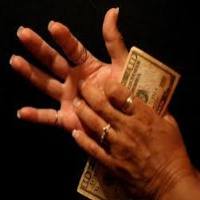ring: (6, 53, 66, 105), (71, 93, 117, 144)
